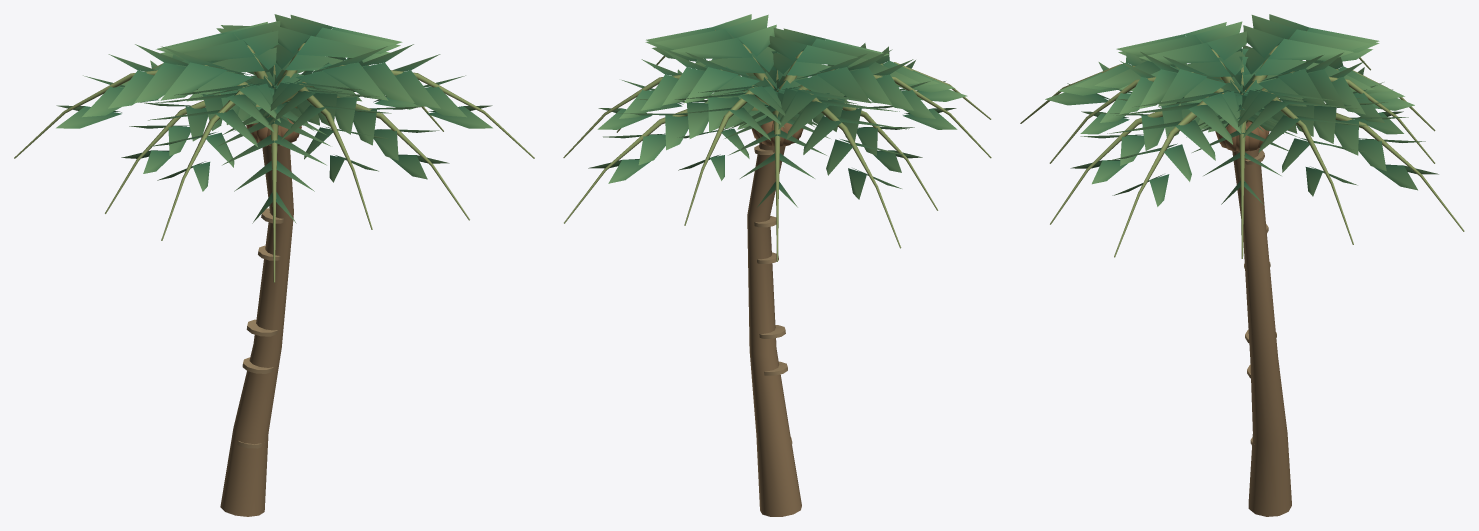
Rendered from ocean_foliage.glb.
The picture shows the model from 3 angles, left to right: view 1: azimuth 30°, elevation 25°; view 2: azimuth 150°, elevation 25°; view 3: azimuth 270°, elevation 25°; orthographic projection. The views are drawn at different scales.
Visible parts, largest first — view 1: Foliage; view 2: Foliage; view 3: Foliage.
Boxes of the visible parts, left/top/right/bottom form: Foliage: left=14, top=14, right=534, bottom=516; Foliage: left=563, top=14, right=991, bottom=516; Foliage: left=1020, top=14, right=1464, bottom=516.
Size of the model in its own units: 3.72 by 4.13 by 3.72.
